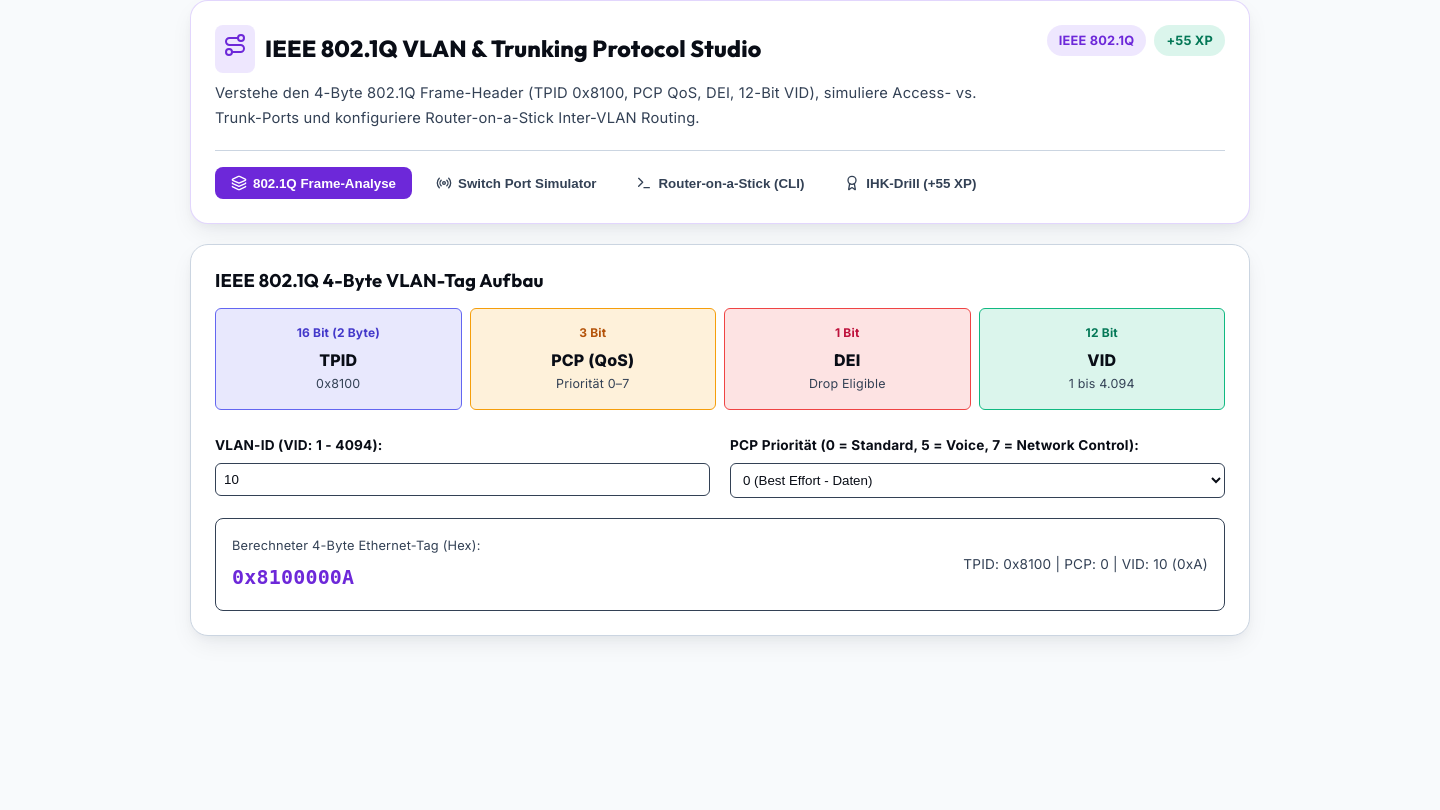
Test: VlanTrunkingLab › wechselt zum Router-on-a-Stick CLI Tab
This screenshot has width=1440, height=810.
Click the button "Router-on-a-Stick (CLI)". click: (720, 183)
box: [620,167,820,199]
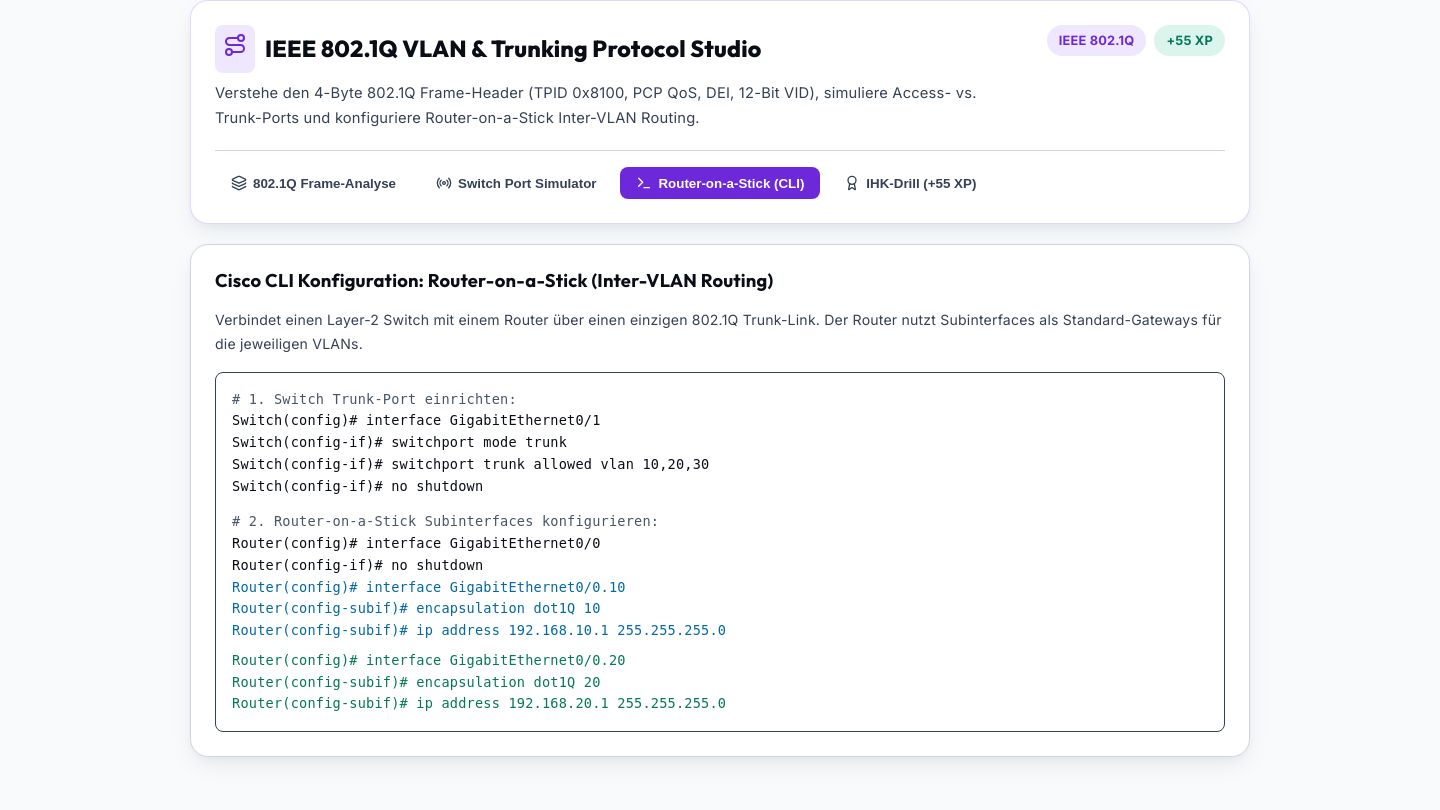
Result: the heading "Cisco CLI Konfiguration: Router-on-a-Stick" is shown at [215,269,773,292]
Result: the text "Router(config-subif)# encapsulation dot1Q 10" is shown at [232,600,601,616]
